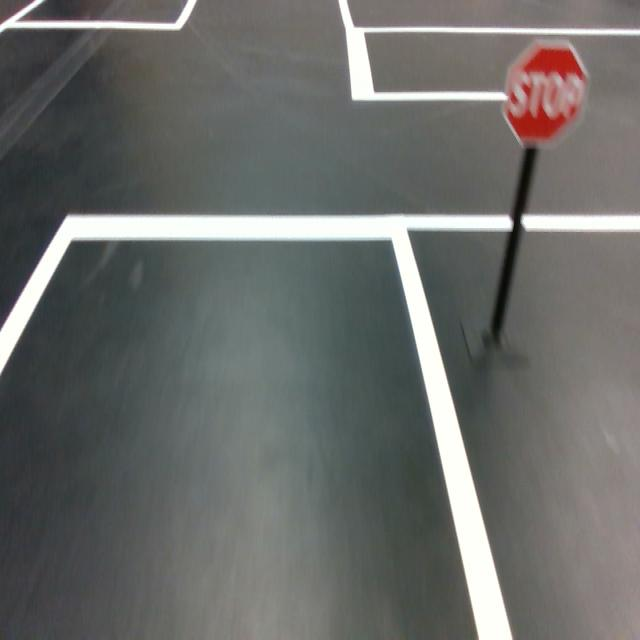stop-sign: (502, 39, 590, 150)
